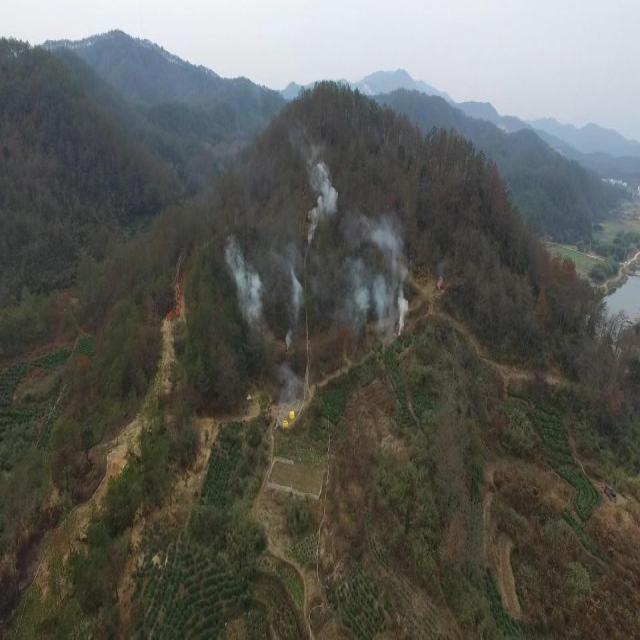Smoke: (224, 137, 408, 423)
